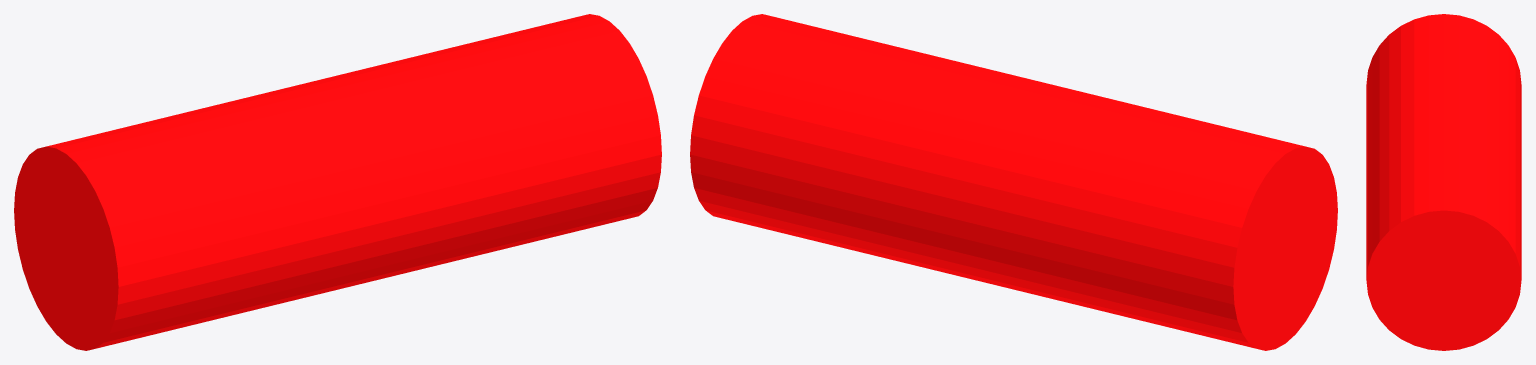
Rendered from ExportedBlenderFBXFile.fbx.
The picture shows the model from 3 angles, left to right: view 1: azimuth 30°, elevation 25°; view 2: azimuth 150°, elevation 25°; view 3: azimuth 270°, elevation 25°; orthographic projection. The views are drawn at different scales.
Parts seen in each view (by area): view 1: Cylinder; view 2: Cylinder; view 3: Cylinder.
Boxes of the visible parts, x1=… form: Cylinder: x1=14, y1=14, x2=661, y2=350; Cylinder: x1=690, y1=14, x2=1337, y2=350; Cylinder: x1=1366, y1=14, x2=1521, y2=350.
Size of the model in its own units: 1.5 by 0.5 by 0.5.
